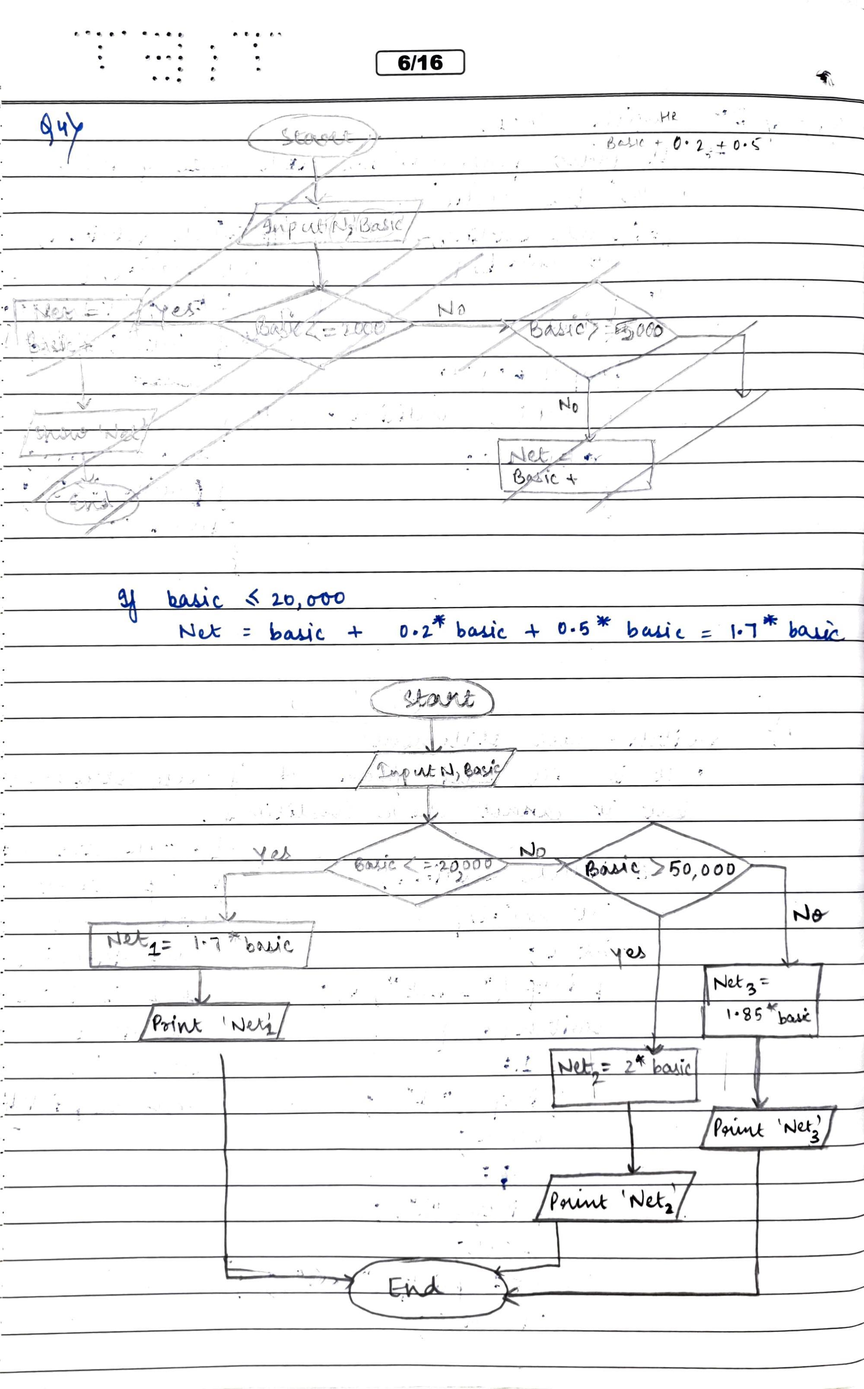cuttings: (13, 109, 773, 541)
